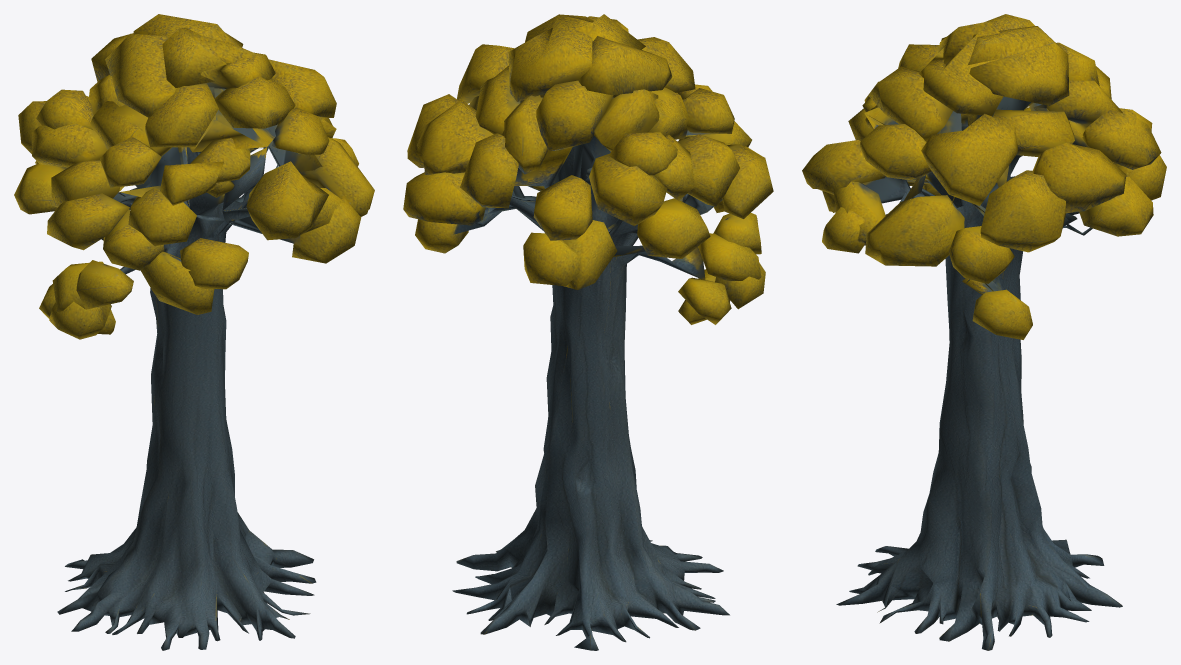
File: elder_tree.glb
3 views of the same model, side by side, from view 1: azimuth 30°, elevation 25°; view 2: azimuth 150°, elevation 25°; view 3: azimuth 270°, elevation 25° (orthographic).
Size of the model in its own units: 0.5547 by 0.9531 by 0.5581.
Materials: 1 (1 with a texture image).
